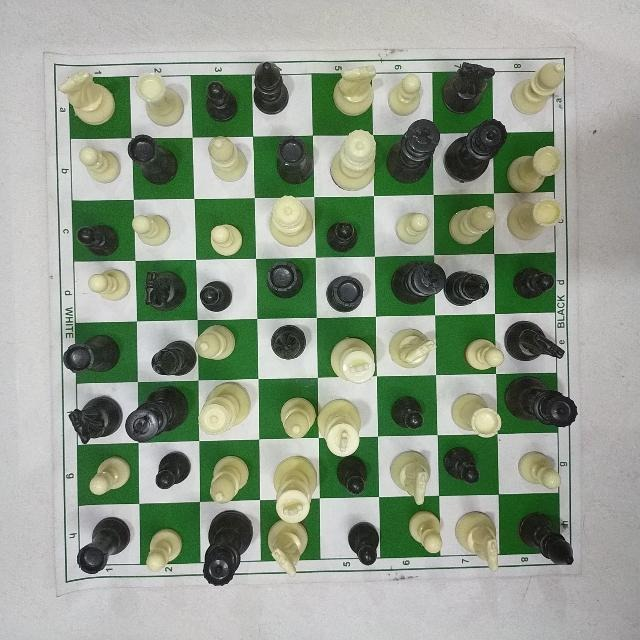black-bishop: (510, 506, 583, 571), (259, 312, 318, 366), (252, 52, 297, 122), (437, 261, 493, 313), (141, 332, 196, 380)
black-king: (120, 384, 190, 448), (381, 114, 444, 184), (381, 253, 447, 311)
black-knight: (496, 309, 571, 369), (61, 385, 125, 453), (435, 52, 496, 121), (133, 260, 191, 320)
black-pawn: (196, 68, 244, 129), (434, 438, 489, 490), (325, 444, 378, 496), (504, 259, 559, 309), (147, 441, 198, 493), (68, 219, 128, 261), (346, 506, 385, 570), (192, 271, 236, 323), (383, 392, 433, 434), (320, 213, 366, 257)
black-queen: (495, 370, 589, 437), (439, 111, 514, 191), (193, 501, 255, 591)
black-rook: (68, 507, 137, 579), (54, 329, 132, 384), (120, 123, 183, 191), (264, 132, 316, 192), (318, 265, 369, 313), (259, 255, 311, 301)
white-bishop: (499, 55, 573, 117), (196, 130, 251, 186), (441, 199, 498, 253), (200, 452, 258, 505), (188, 317, 244, 364), (272, 392, 320, 445)
white-king: (260, 451, 321, 528), (313, 392, 374, 459), (326, 329, 380, 389)
white-knight: (442, 499, 505, 582), (56, 64, 121, 134), (259, 505, 319, 576), (324, 58, 381, 121), (385, 445, 437, 507), (387, 321, 446, 375)
white-pawn: (138, 512, 194, 582), (510, 441, 572, 497), (82, 445, 137, 503), (402, 503, 450, 560), (70, 138, 124, 188), (382, 65, 430, 121), (201, 216, 251, 268), (389, 205, 436, 257), (456, 332, 508, 378), (86, 259, 139, 304), (128, 206, 180, 250)
white-queen: (264, 449, 328, 525), (325, 119, 383, 199), (194, 378, 258, 441), (267, 195, 316, 247)
white-rook: (501, 135, 569, 197), (132, 65, 192, 128), (445, 388, 510, 442), (504, 195, 571, 247)
